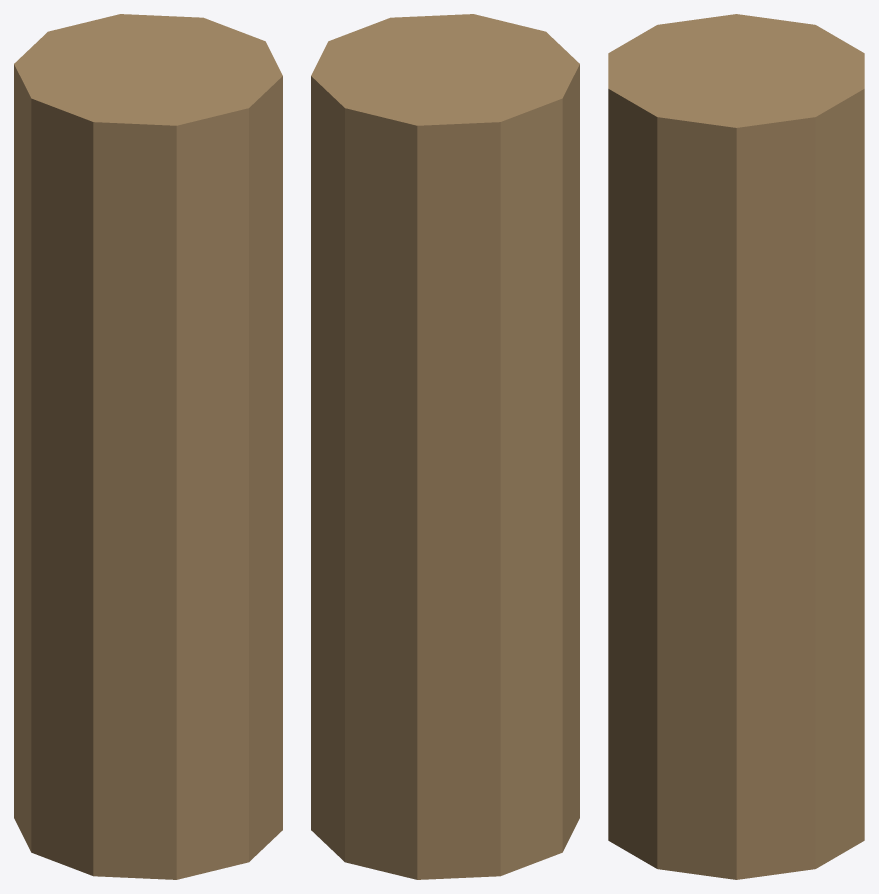
The model's file is Log.glb.
3 renders of one model, left to right at view 1: azimuth 30°, elevation 25°; view 2: azimuth 150°, elevation 25°; view 3: azimuth 270°, elevation 25°, orthographic.
Parts seen in each view (by area): view 1: filler_Log; view 2: filler_Log; view 3: filler_Log.
Boxes of the visible parts, left/top/right/bottom form: filler_Log: left=14, top=14, right=282, bottom=879; filler_Log: left=311, top=14, right=579, bottom=879; filler_Log: left=608, top=14, right=864, bottom=879.
Bounding box in the file's own units: 0.52 × 1.6 × 0.4945.
